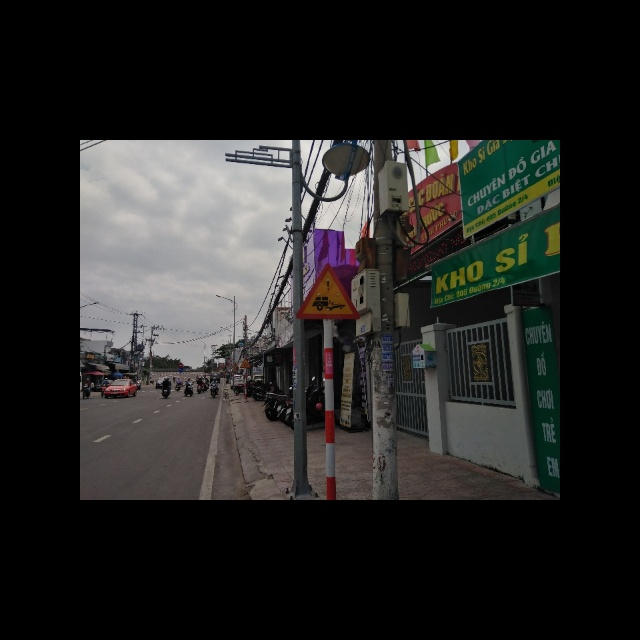Đoạn đường hay xảy ra tai nạn: (296, 261, 361, 319)
